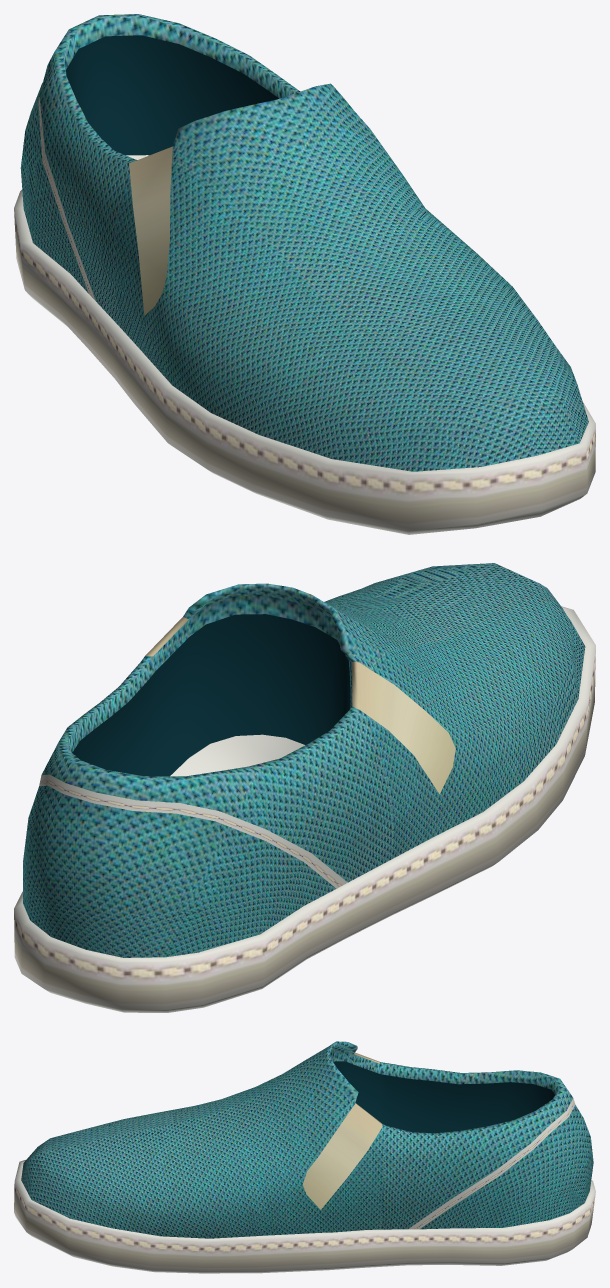
Rendered from shoes right.fbx.
3 renders of one model, top to bottom at view 1: azimuth 30°, elevation 25°; view 2: azimuth 150°, elevation 25°; view 3: azimuth 270°, elevation 25°, orthographic. The views are drawn at different scales.
Parts seen in each view (by area): view 1: Shoe.001; view 2: Shoe.001; view 3: Shoe.001.
Part boxes in pixels (x1,y1,x2,y2): Shoe.001: [14, 14, 595, 534]; Shoe.001: [14, 563, 595, 1012]; Shoe.001: [14, 1041, 595, 1273].
Size of the model in its own units: 85.53 by 72.42 by 215.
Materials: 1 (1 with a texture image).
